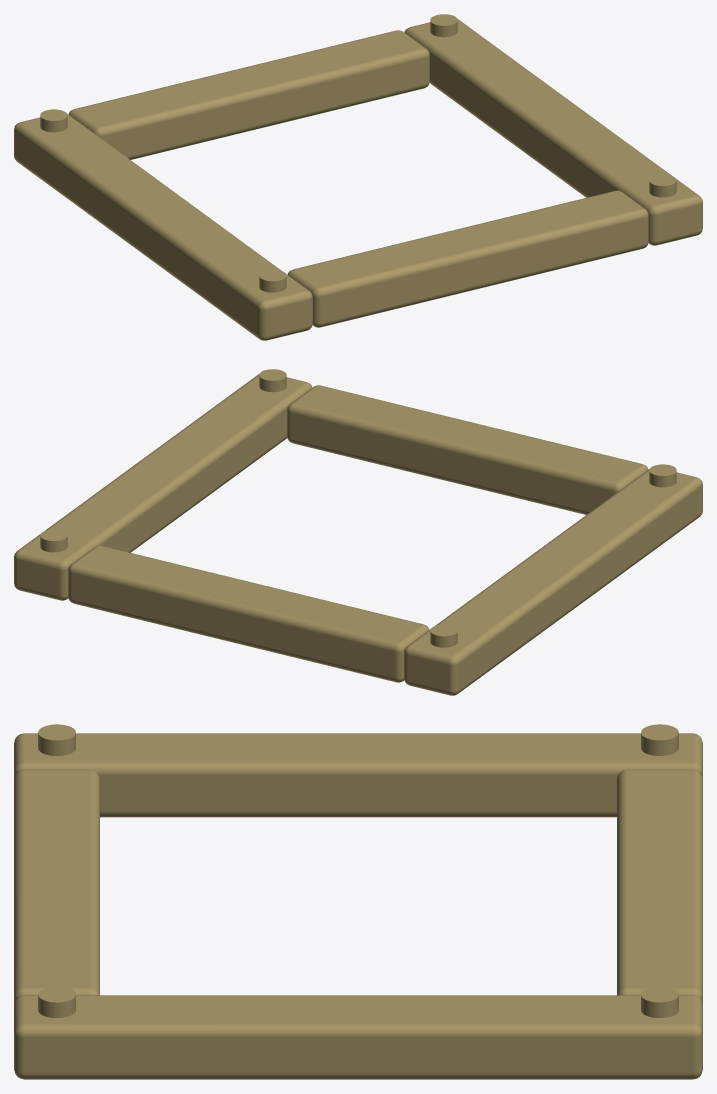
File: water-clock-garden-and-hydraulic-puzzles-maintenance-h-816e5b78__31965.glb
3 views of the same model, one above another, from view 1: azimuth 30°, elevation 25°; view 2: azimuth 150°, elevation 25°; view 3: azimuth 270°, elevation 25° (orthographic). The views are drawn at different scales.
Visible parts, largest first — view 1: maintenance-hatch-frame; view 2: maintenance-hatch-frame; view 3: maintenance-hatch-frame.
Part boxes in pixels (x1=…): maintenance-hatch-frame: x1=14, y1=14, x2=702, y2=340; maintenance-hatch-frame: x1=14, y1=369, x2=702, y2=695; maintenance-hatch-frame: x1=14, y1=724, x2=702, y2=1079.
Size of the model in its own units: 0.82 by 0.09 by 0.8.
